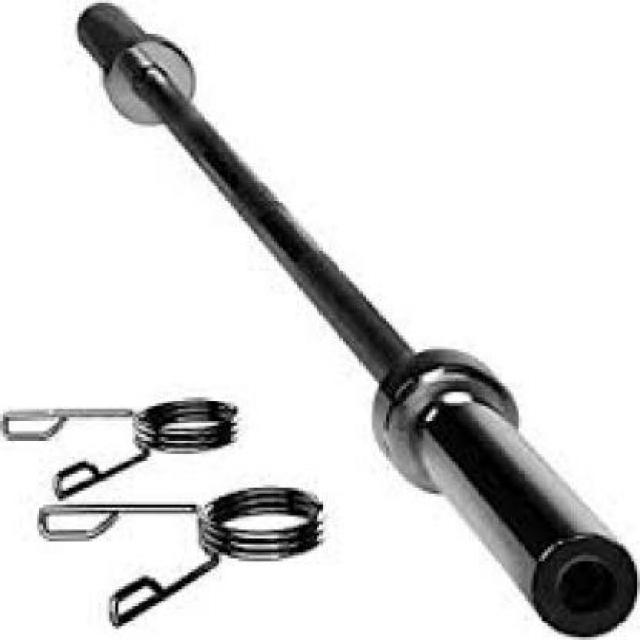Barbell: (521, 510, 637, 638)
